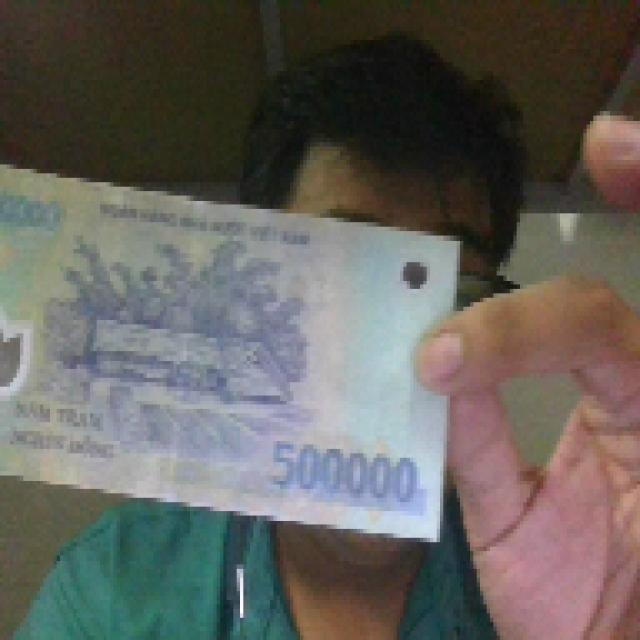500 000 VND: (0, 151, 463, 546)
